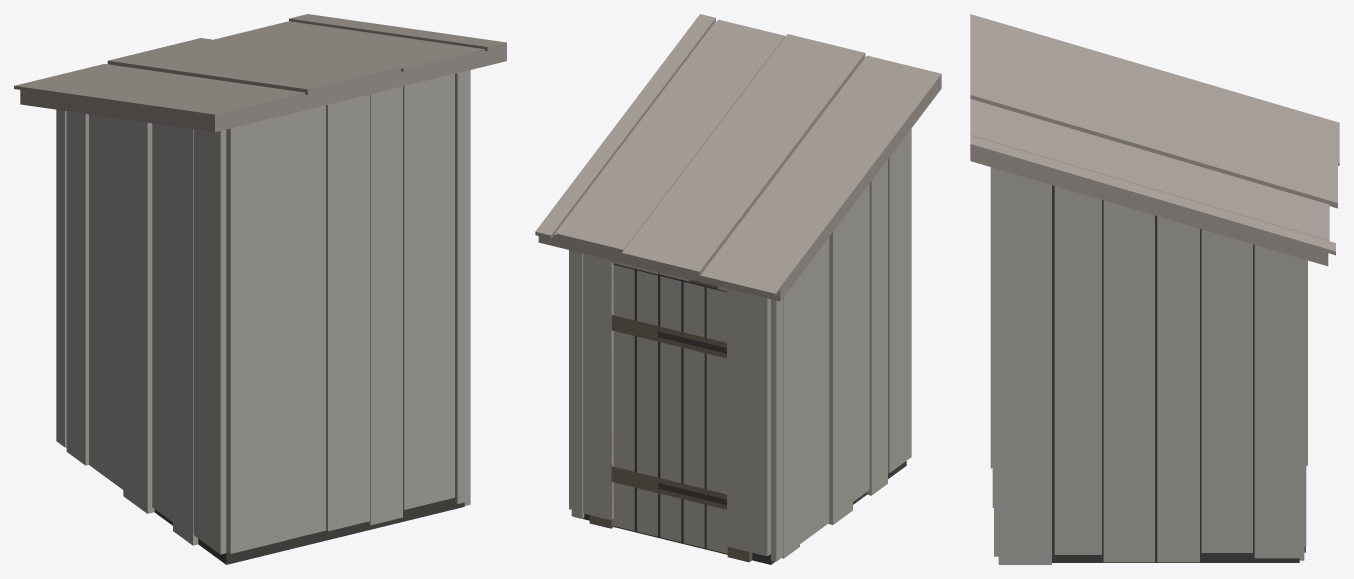
File: recon_1835_north_a3_034__inferred_1835.glb
3 renders of one model, left to right at view 1: azimuth 30°, elevation 25°; view 2: azimuth 150°, elevation 25°; view 3: azimuth 270°, elevation 25°, orthographic. The views are drawn at different scales.
Parts seen in each view (by area): view 1: recon_1835_north_a3_034__inferred_1835; view 2: recon_1835_north_a3_034__inferred_1835; view 3: recon_1835_north_a3_034__inferred_1835.
Boxes of the visible parts, bbox=[...] form: recon_1835_north_a3_034__inferred_1835: bbox=[14, 14, 506, 564]; recon_1835_north_a3_034__inferred_1835: bbox=[535, 14, 941, 564]; recon_1835_north_a3_034__inferred_1835: bbox=[970, 14, 1339, 564].
Size of the model in its own units: 1.79 by 2.76 by 2.13.
